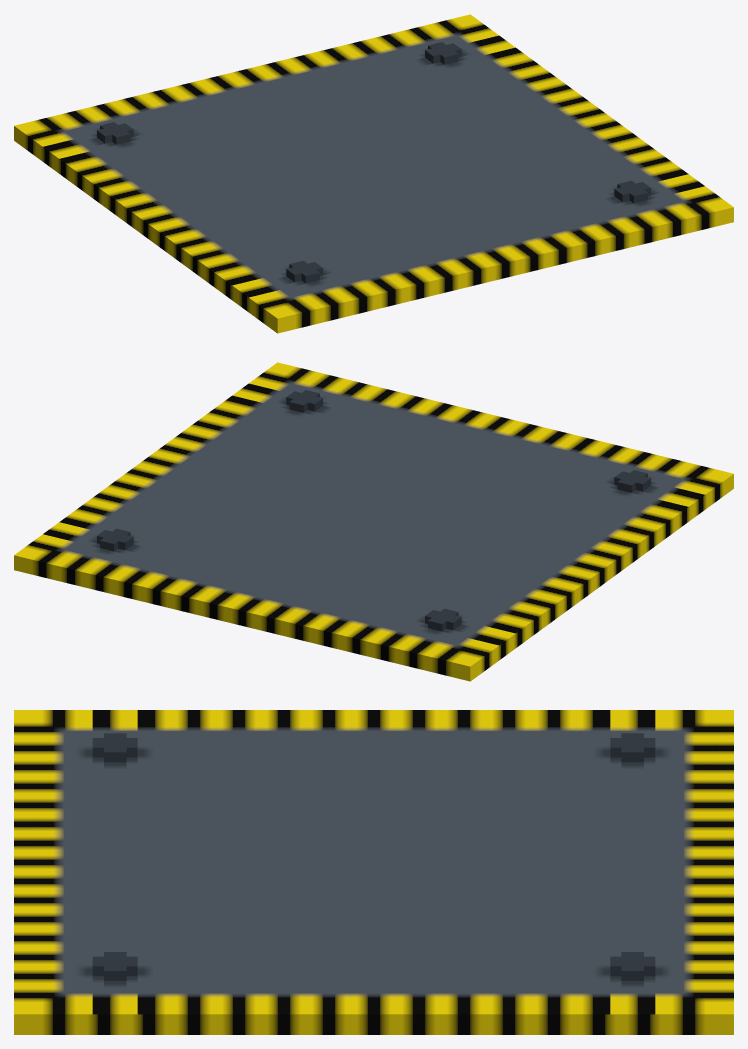
Rendered from piso de recoleccion.fbx.
The picture shows the model from 3 angles, top to bottom: view 1: azimuth 30°, elevation 25°; view 2: azimuth 150°, elevation 25°; view 3: azimuth 270°, elevation 25°; orthographic projection. The views are drawn at different scales.
Parts seen in each view (by area): view 1: Caja, Caja_2, Caja_1, Caja_3; view 2: Caja_1, Caja_3, Caja, Caja_2; view 3: Caja_2, Caja_3, Caja, Caja_1.
Part boxes in pixels (x1,y1,x2,y2): Caja: (145, 166, 505, 333); Caja_2: (374, 111, 733, 277); Caja_1: (14, 70, 373, 236); Caja_3: (242, 14, 601, 166); Caja_1: (242, 514, 602, 681); Caja_3: (14, 459, 373, 625); Caja: (374, 418, 733, 584); Caja_2: (146, 362, 505, 514); Caja_2: (14, 862, 373, 1034); Caja_3: (374, 862, 733, 1034); Caja: (14, 710, 373, 862); Caja_1: (374, 710, 733, 862).
Size of the model in its own units: 64 by 3 by 64.
1 material, 1 textured.
